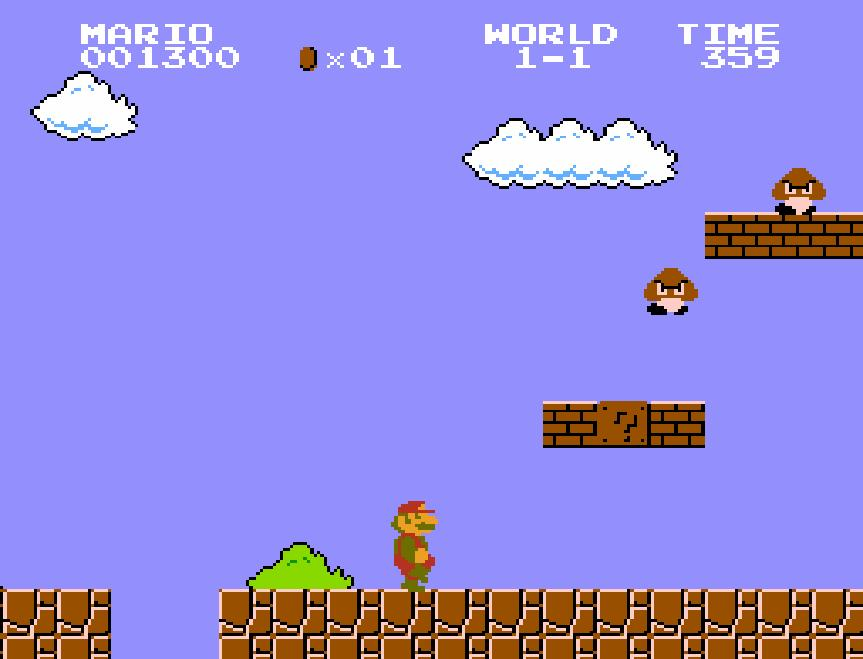big_mario: (386, 496, 444, 594)
